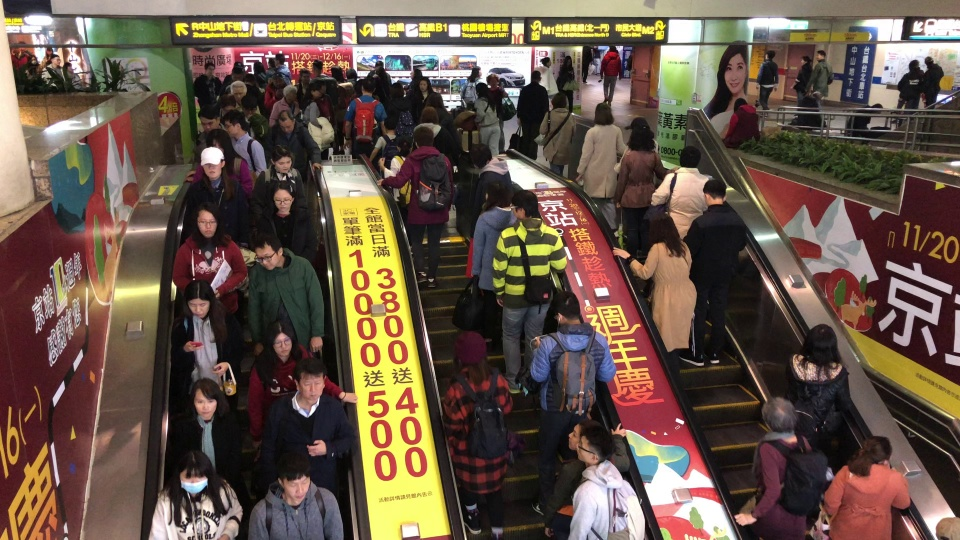person_head: (275, 451, 311, 503), (178, 449, 213, 494), (574, 425, 614, 464), (292, 357, 326, 400), (803, 323, 839, 361), (760, 396, 798, 432), (181, 278, 215, 318), (451, 331, 487, 368), (191, 377, 220, 419), (252, 231, 283, 269), (567, 419, 600, 452), (268, 318, 295, 356), (552, 291, 581, 324), (648, 213, 679, 243), (195, 202, 219, 239), (862, 435, 892, 464), (510, 188, 538, 219), (200, 146, 225, 178), (272, 181, 296, 214), (484, 180, 511, 205), (627, 125, 654, 149), (702, 178, 726, 205), (197, 104, 220, 132), (270, 144, 293, 172), (206, 128, 232, 152), (223, 109, 244, 138), (469, 143, 492, 169), (412, 125, 435, 149), (679, 145, 702, 167), (593, 102, 614, 125), (277, 110, 294, 132), (230, 80, 247, 101), (419, 106, 438, 124), (240, 95, 256, 116), (219, 93, 235, 112), (310, 80, 326, 99), (549, 92, 567, 107), (383, 116, 398, 133), (396, 136, 412, 151), (283, 84, 297, 101), (389, 82, 403, 98), (361, 78, 375, 93), (330, 65, 343, 81), (418, 77, 432, 91), (733, 97, 747, 111), (426, 93, 441, 106), (475, 82, 488, 97), (486, 72, 498, 87), (312, 59, 323, 74), (231, 67, 243, 80), (252, 61, 264, 74), (274, 52, 285, 66), (375, 68, 387, 80), (50, 53, 61, 66), (204, 61, 215, 74), (531, 70, 542, 83), (273, 73, 283, 87), (300, 69, 310, 83), (410, 68, 422, 79), (764, 49, 776, 60), (800, 55, 813, 65), (346, 68, 357, 79), (815, 49, 826, 60), (908, 60, 919, 71), (471, 66, 483, 76), (541, 56, 551, 67), (563, 54, 572, 66), (62, 61, 72, 71), (873, 103, 882, 114), (924, 56, 933, 66), (12, 45, 21, 54), (29, 55, 36, 64), (608, 45, 617, 52), (46, 46, 53, 54), (375, 60, 383, 66), (630, 50, 632, 53)
person_vbox: (529, 291, 618, 516), (491, 188, 567, 395), (442, 331, 513, 540), (247, 318, 358, 450), (733, 395, 827, 540), (612, 212, 697, 372), (260, 357, 357, 492), (679, 178, 747, 368), (376, 126, 455, 288), (544, 419, 630, 538), (248, 231, 325, 357), (173, 278, 244, 411), (823, 435, 911, 539), (566, 425, 645, 540), (612, 125, 678, 261), (147, 449, 243, 540), (171, 201, 248, 314), (248, 451, 343, 540), (783, 323, 851, 443), (470, 179, 516, 354), (172, 376, 243, 481), (464, 143, 513, 279), (575, 101, 626, 230), (186, 147, 250, 248), (182, 108, 267, 183), (650, 145, 712, 240), (256, 180, 317, 262), (249, 144, 308, 221), (262, 110, 324, 183), (191, 128, 252, 194), (342, 78, 386, 156), (538, 92, 576, 176), (515, 70, 549, 152), (410, 106, 458, 163), (303, 80, 337, 159), (184, 104, 220, 174), (425, 93, 464, 155), (378, 135, 412, 205), (330, 67, 354, 154), (721, 97, 760, 149), (474, 82, 501, 155), (804, 50, 833, 113), (385, 82, 415, 142), (755, 49, 779, 117), (789, 55, 813, 119), (599, 44, 622, 106), (369, 116, 398, 165), (307, 59, 338, 103), (896, 59, 923, 109), (193, 61, 221, 107), (846, 103, 882, 138), (240, 94, 268, 138), (268, 84, 298, 125), (922, 55, 944, 109), (556, 55, 575, 112), (535, 56, 559, 97), (263, 73, 284, 113), (460, 66, 483, 102), (266, 53, 292, 84), (485, 73, 508, 108), (41, 53, 64, 87), (413, 76, 432, 117), (293, 68, 310, 104), (61, 61, 80, 87), (11, 44, 29, 71), (581, 45, 592, 86), (24, 55, 41, 80), (39, 46, 53, 69), (593, 45, 602, 75), (626, 49, 632, 78)
